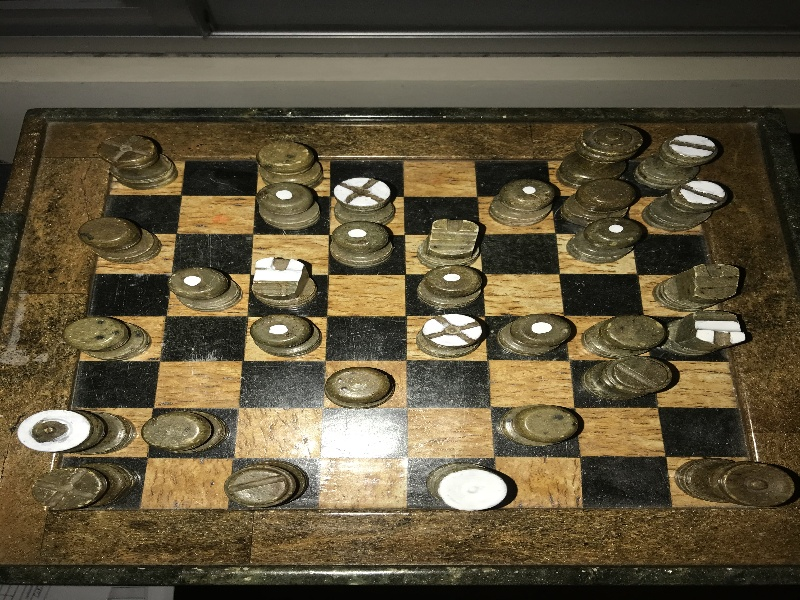WhiteBishop: (416, 313, 483, 359), (333, 178, 395, 226)
WhitePawn: (169, 266, 242, 311), (566, 218, 637, 263), (488, 178, 552, 226), (255, 183, 320, 229), (250, 314, 321, 356), (330, 222, 393, 268), (499, 314, 569, 355), (415, 266, 481, 308)
WhiteRook: (636, 134, 716, 191), (644, 181, 725, 232)
